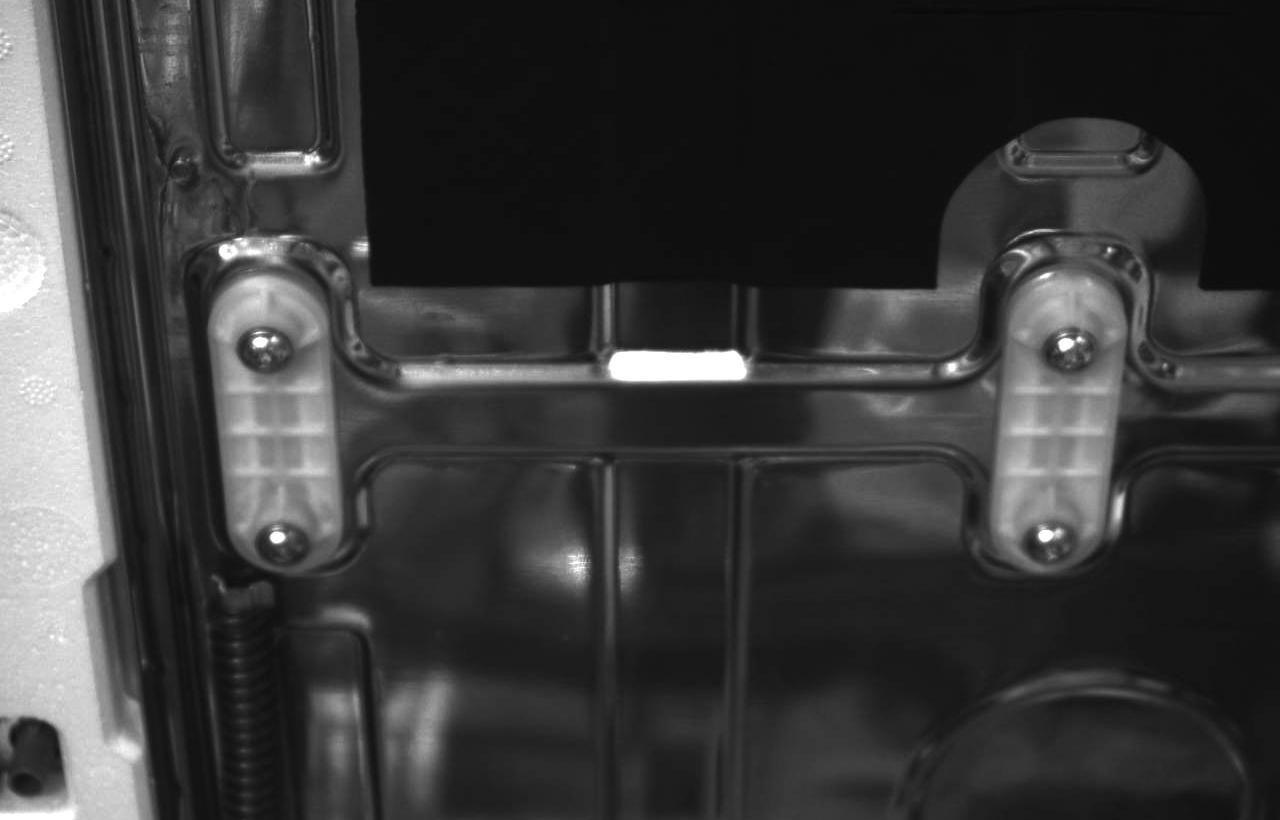vida-ok: (211, 311, 297, 388), (1019, 317, 1107, 390), (242, 507, 322, 572), (1017, 515, 1092, 573)
